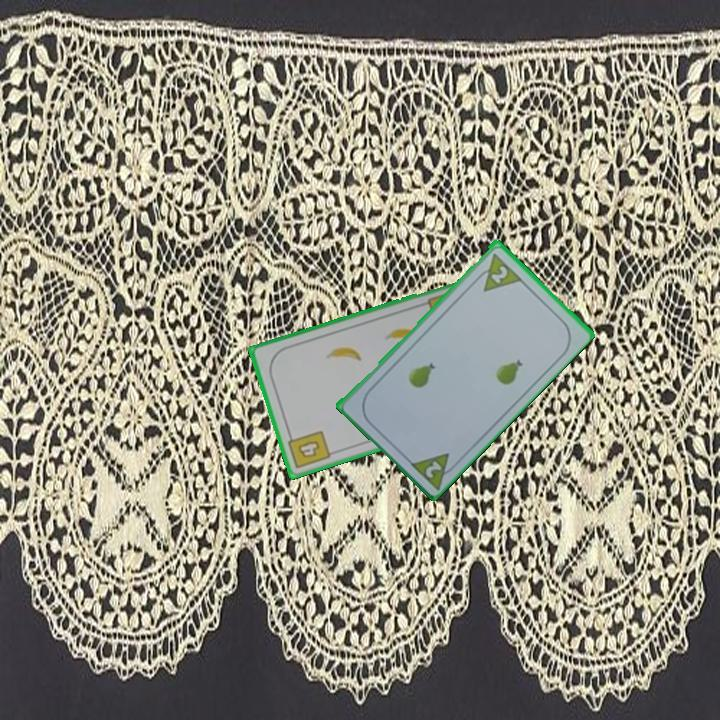2p: (470, 249, 524, 294), (421, 457, 445, 481)
4b: (284, 427, 333, 472)
